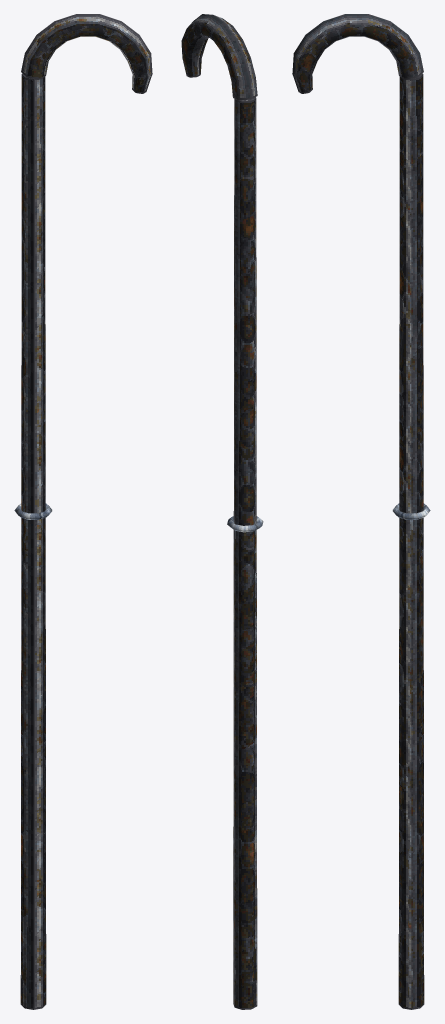
Rendered from iron_crook.glb.
The picture shows the model from 3 angles, left to right: view 1: azimuth 90°, elevation 25°; view 2: azimuth 210°, elevation 25°; view 3: azimuth 270°, elevation 25°; orthographic projection. The views are drawn at different scales.
Parts seen in each view (by area): view 1: iron_crook; view 2: iron_crook; view 3: iron_crook.
Part boxes in pixels (x1,y1,x2,y2): iron_crook: [14, 14, 152, 1009]; iron_crook: [181, 14, 263, 1009]; iron_crook: [292, 14, 430, 1009].
Size of the model in its own units: 0.0399 by 1.2 by 0.152.
1 material, 1 textured.
